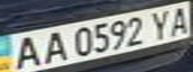0: (69, 24, 93, 57)
2: (124, 14, 151, 47)
5: (90, 20, 112, 54)
9: (106, 17, 130, 51)
A: (3, 34, 48, 70), (36, 28, 72, 64), (163, 2, 193, 36)
Y: (145, 7, 178, 40)
